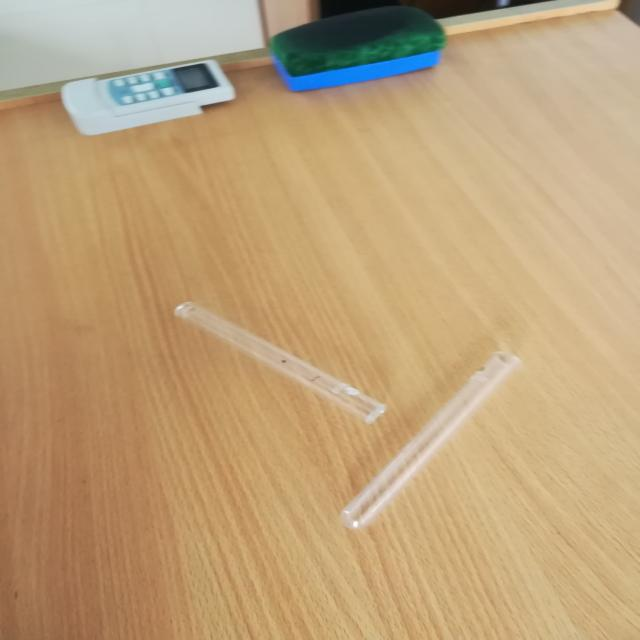Test_Tube: (335, 318, 549, 550), (156, 279, 402, 430)
